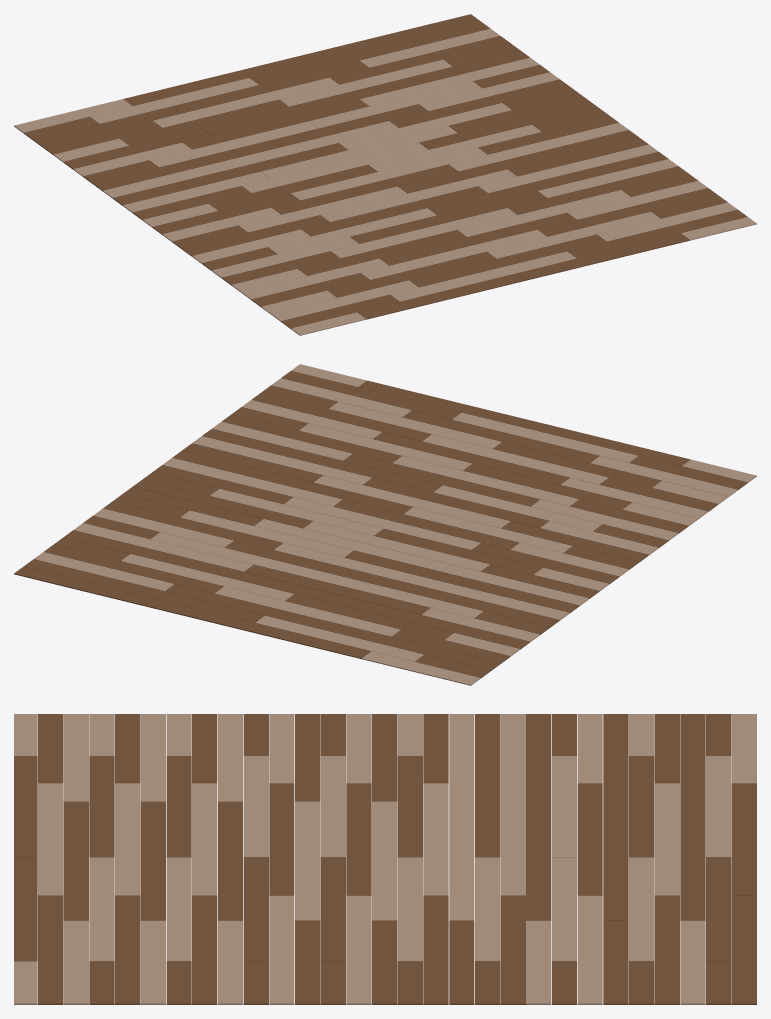
The model's file is Parquet_7.fbx.
3 views of the same model, one above another, from view 1: azimuth 30°, elevation 25°; view 2: azimuth 150°, elevation 25°; view 3: azimuth 270°, elevation 25° (orthographic). The views are drawn at different scales.
Parts seen in each view (by area): view 1: Parquet_7; view 2: Parquet_7; view 3: Parquet_7.
Boxes of the visible parts, <box> form: Parquet_7: <box>14,14,756,335</box>; Parquet_7: <box>14,364,756,685</box>; Parquet_7: <box>14,714,756,1004</box>.
Bounding box in the file's own units: 448 × 486 × 0.8159.
